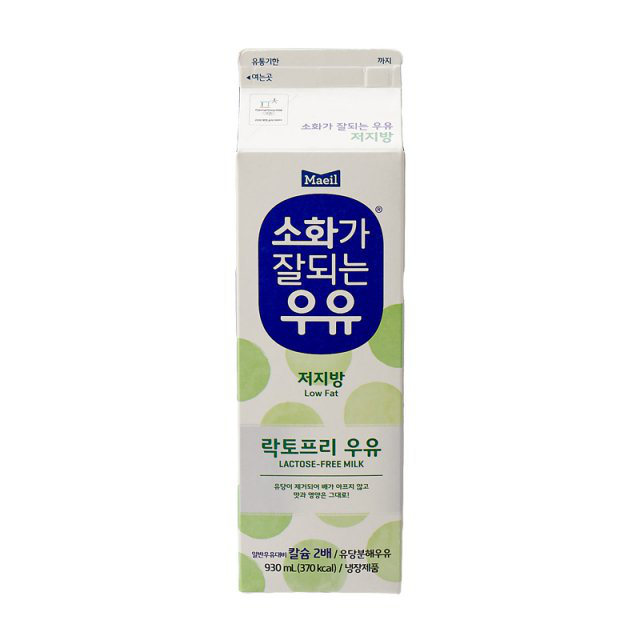milk: (233, 50, 407, 595)
